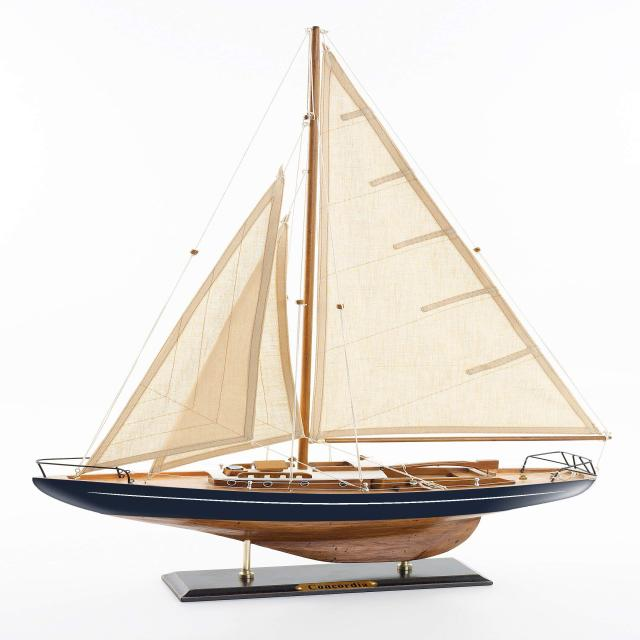boat: (31, 26, 610, 609)
